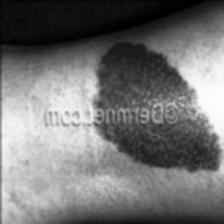Potentially Malignant Skin Tumors: (95, 38, 217, 170)
